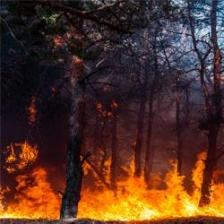fire: (1, 142, 224, 221)
